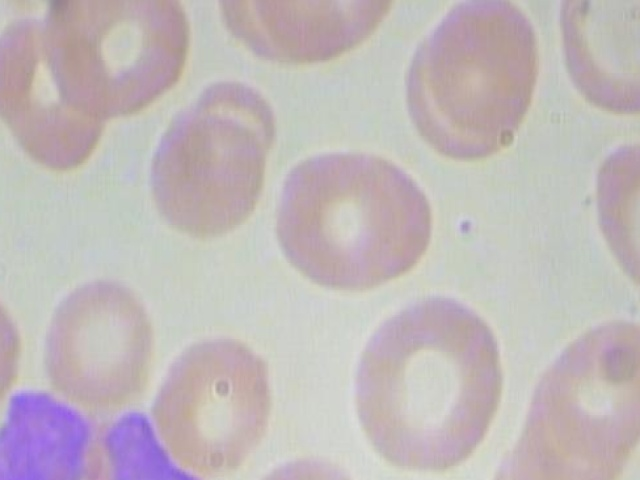RBC: (339, 290, 515, 480), (271, 151, 418, 292), (148, 328, 289, 473), (38, 0, 188, 122), (418, 0, 541, 138), (139, 109, 267, 238), (43, 269, 155, 408), (545, 311, 640, 458), (553, 0, 640, 122), (585, 132, 640, 316), (249, 0, 406, 62), (236, 450, 381, 480)
WBC: (0, 377, 254, 480)
